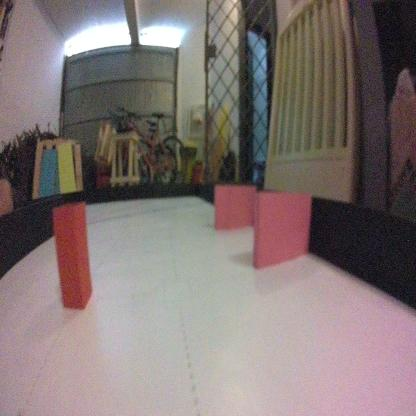magenta: (252, 190, 311, 276), (212, 182, 257, 233)
red: (51, 197, 93, 312)
